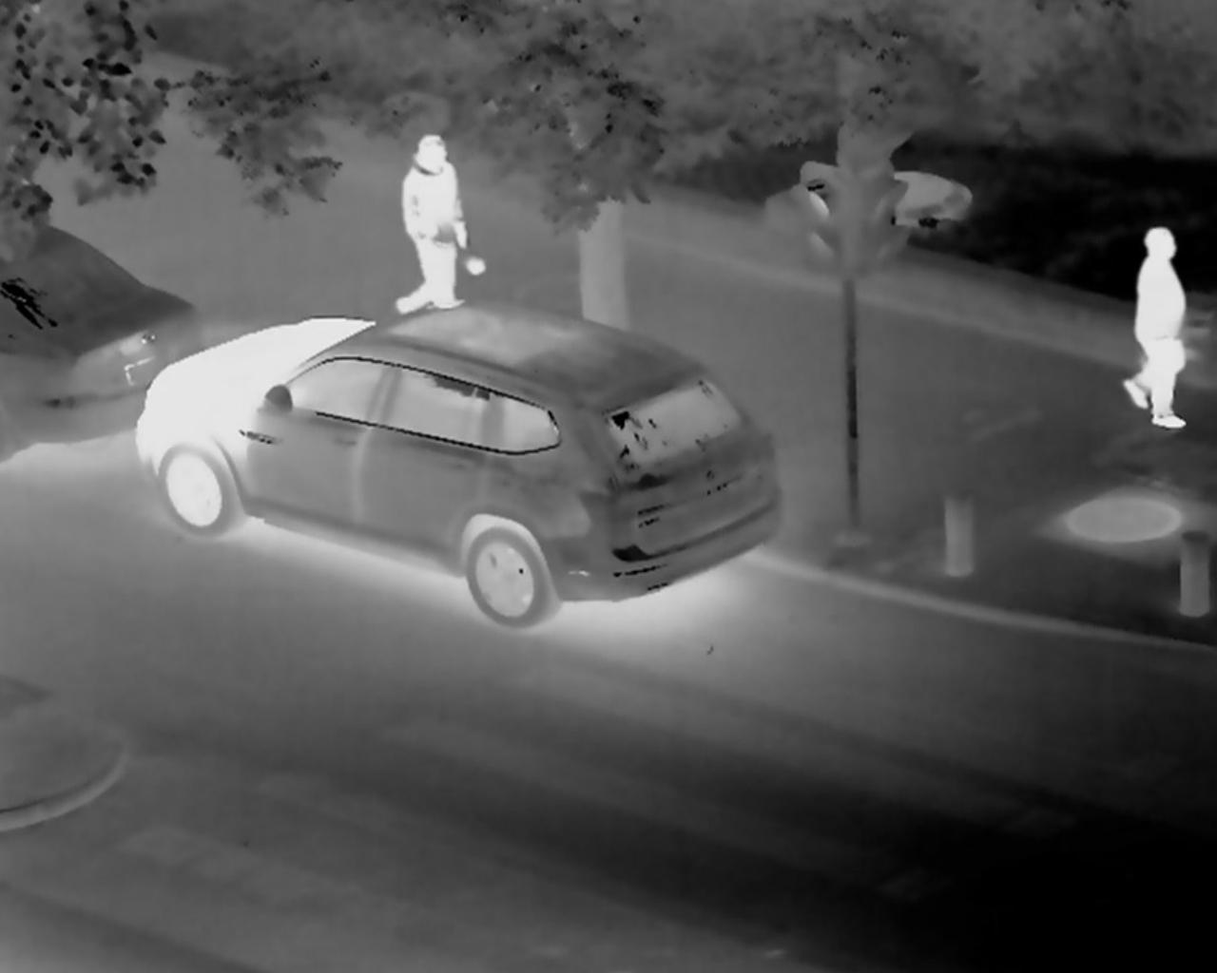person: (391, 127, 502, 337), (1136, 210, 1217, 412)
